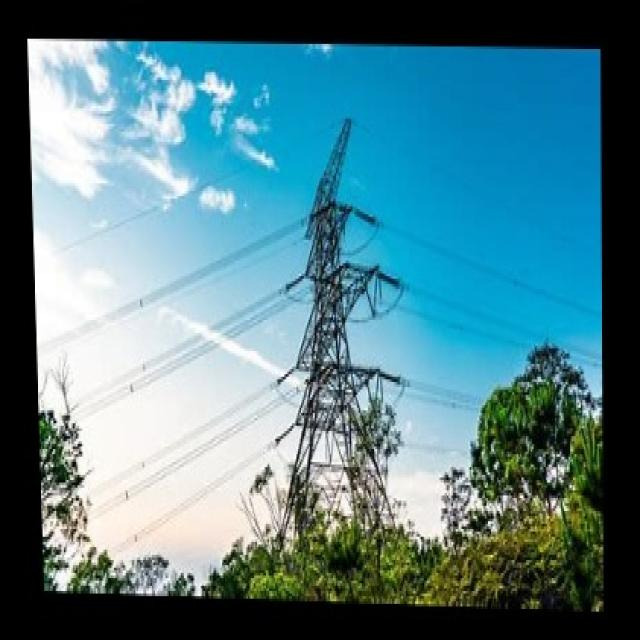utility poles: (454, 298, 566, 506), (324, 362, 416, 548)
